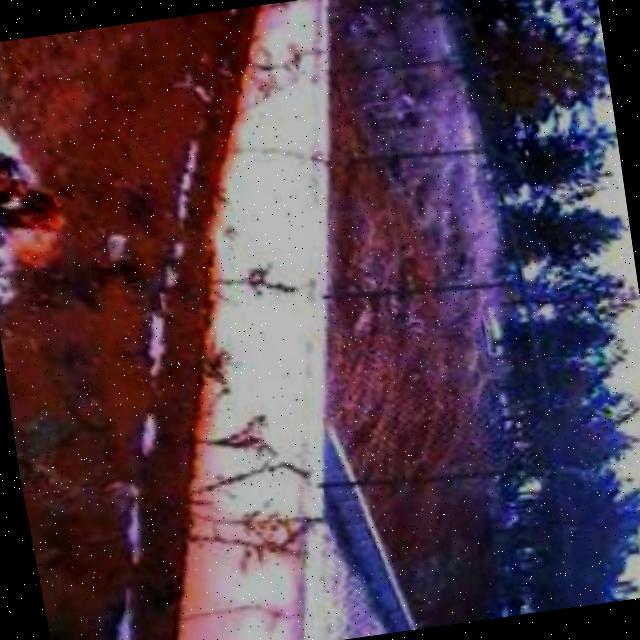fire: (0, 134, 72, 281)
